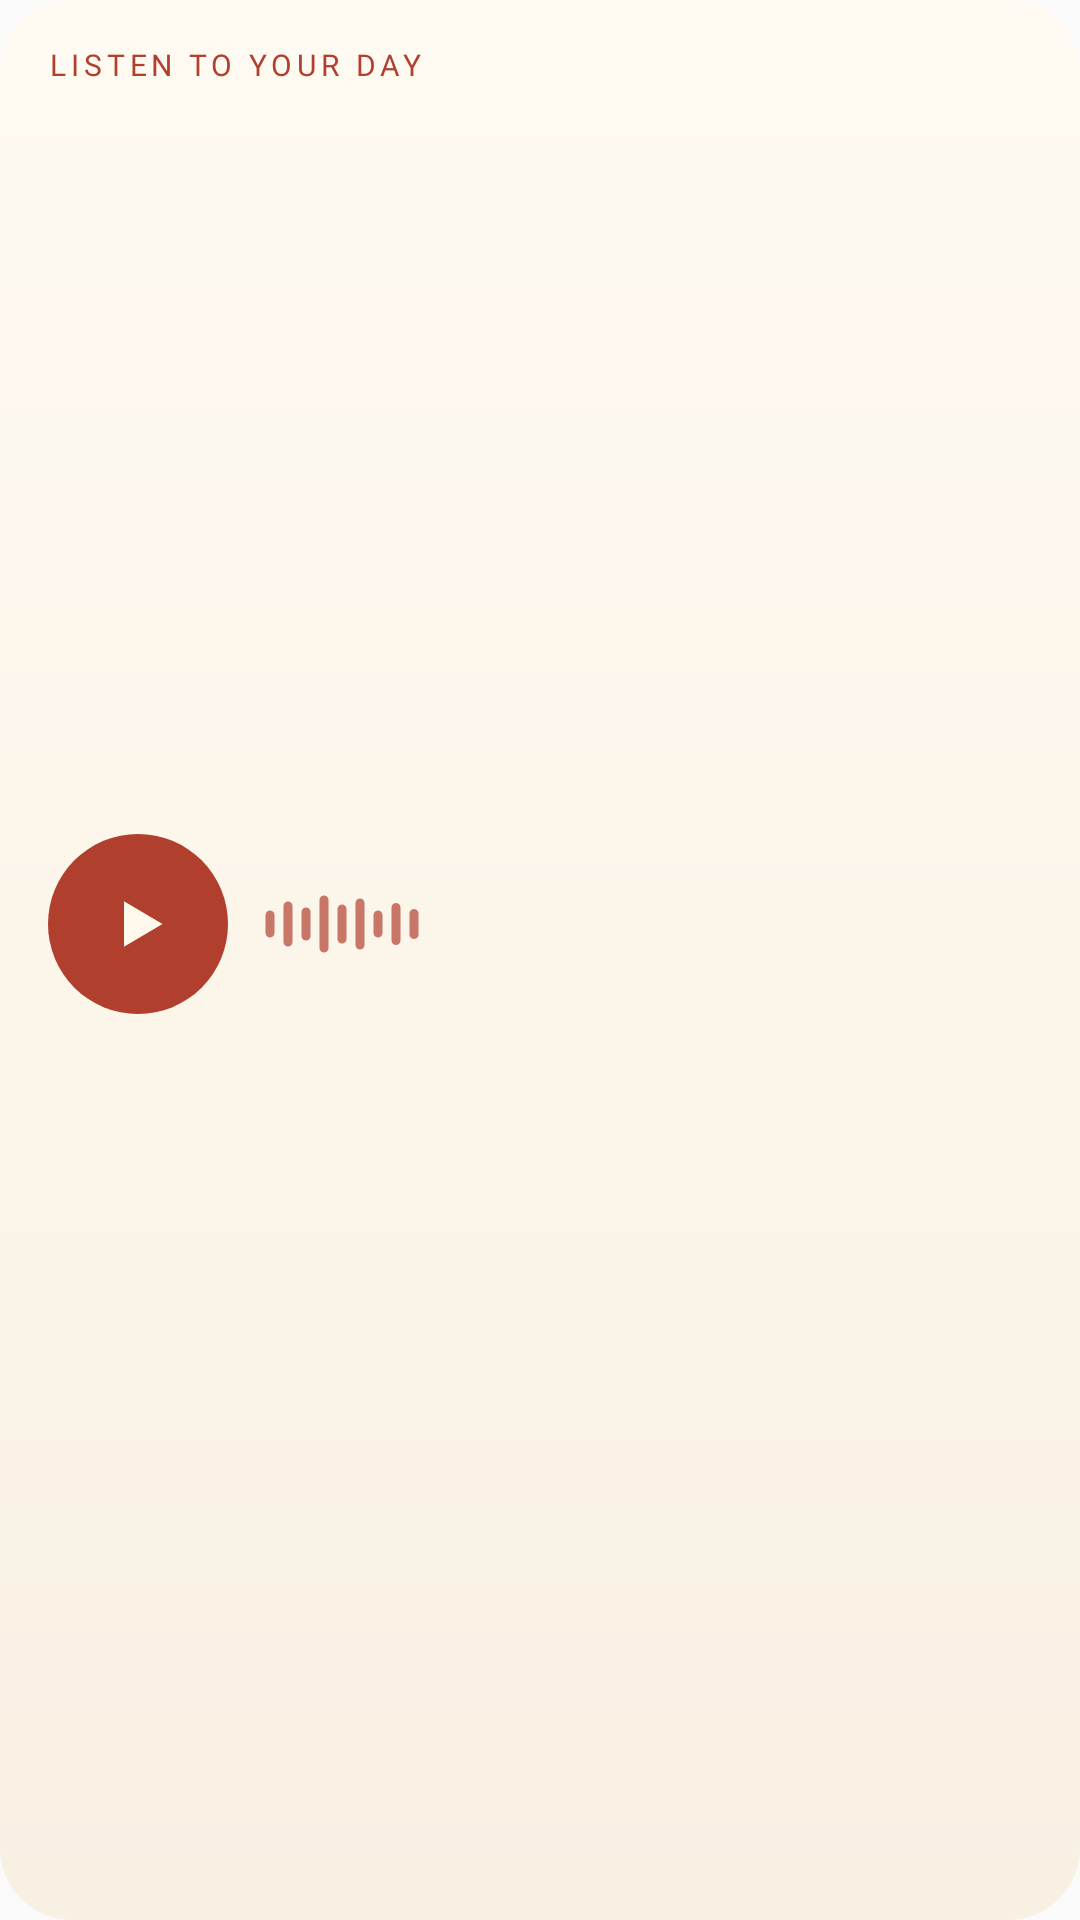

Screen size 1080 × 1920. Icon name, then its center in pixels as (x=x, y=y):
Listen to your day: (x=138, y=924)
widget wave: (x=342, y=924)
